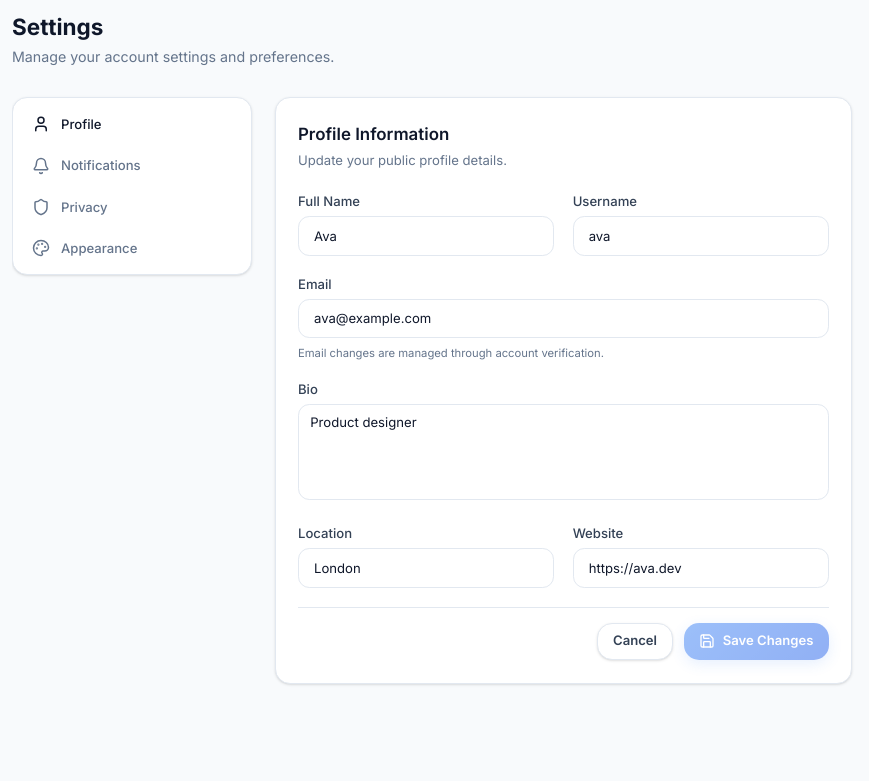
SettingsPage › loads profile data and notification preferences from the backend
Check: the field showing "Ava" below "Full Name" is shown, box [298,216,554,256]
Check: the 3rd field showing "ava@example.com" is shown, box [298,299,828,338]
Click the button "Notifications" at (132, 166), box [20,147,244,184]
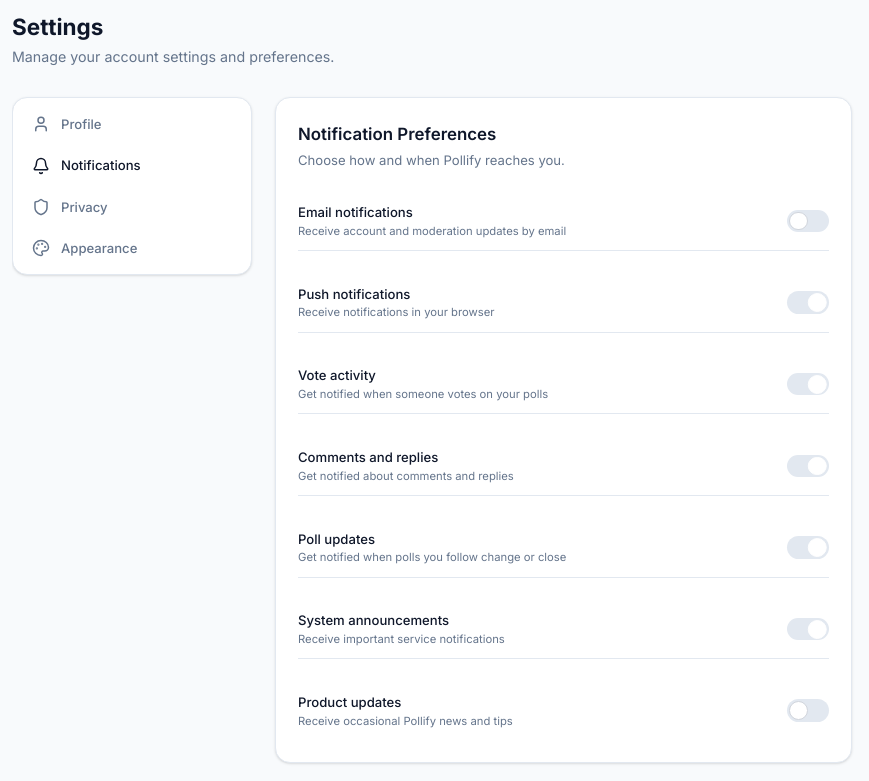
Check: the checkbox named "Email notifications" is not checked, box [787,210,829,232]
Check: the checkbox named "Push notifications" is checked, box [787,291,829,314]
